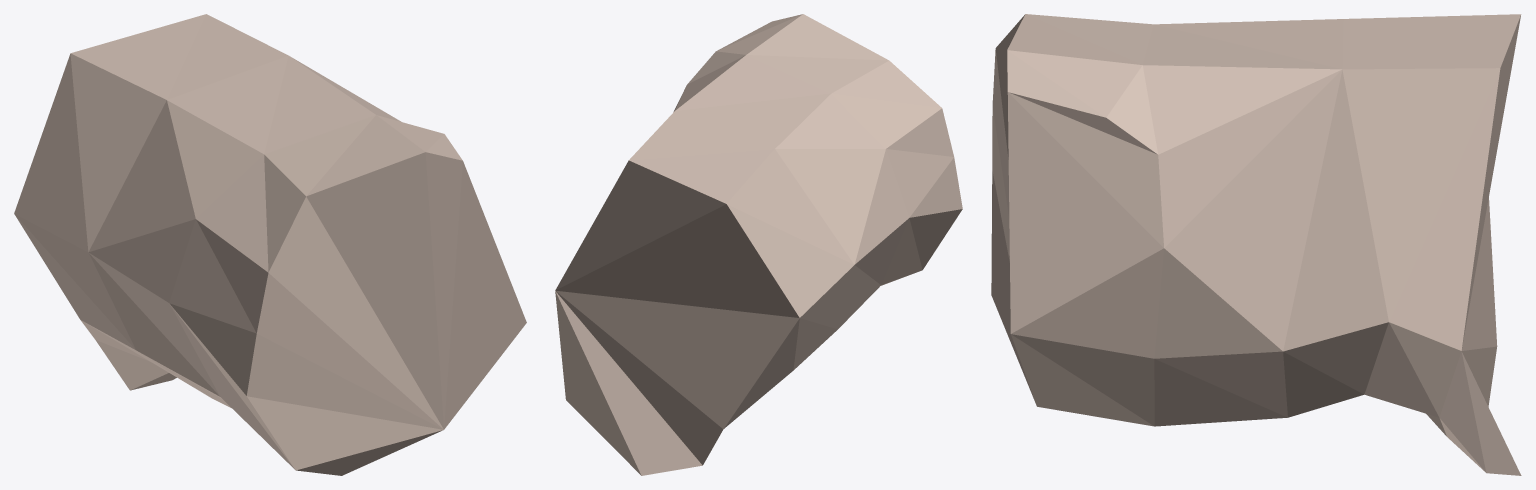
Rendered from RRing1stPhalange.dae.
3 views of the same model, side by side, from view 1: azimuth 30°, elevation 25°; view 2: azimuth 150°, elevation 25°; view 3: azimuth 270°, elevation 25° (orthographic). The views are drawn at different scales.
Visible parts, largest first — view 1: ShapeIndexedFaceSet; view 2: ShapeIndexedFaceSet; view 3: ShapeIndexedFaceSet.
Boxes of the visible parts, <box> form: ShapeIndexedFaceSet: <box>14,14,526,475</box>; ShapeIndexedFaceSet: <box>555,14,962,475</box>; ShapeIndexedFaceSet: <box>991,14,1521,475</box>.
Bounding box in the file's own units: 0.0186 × 0.0242 × 0.0223.
